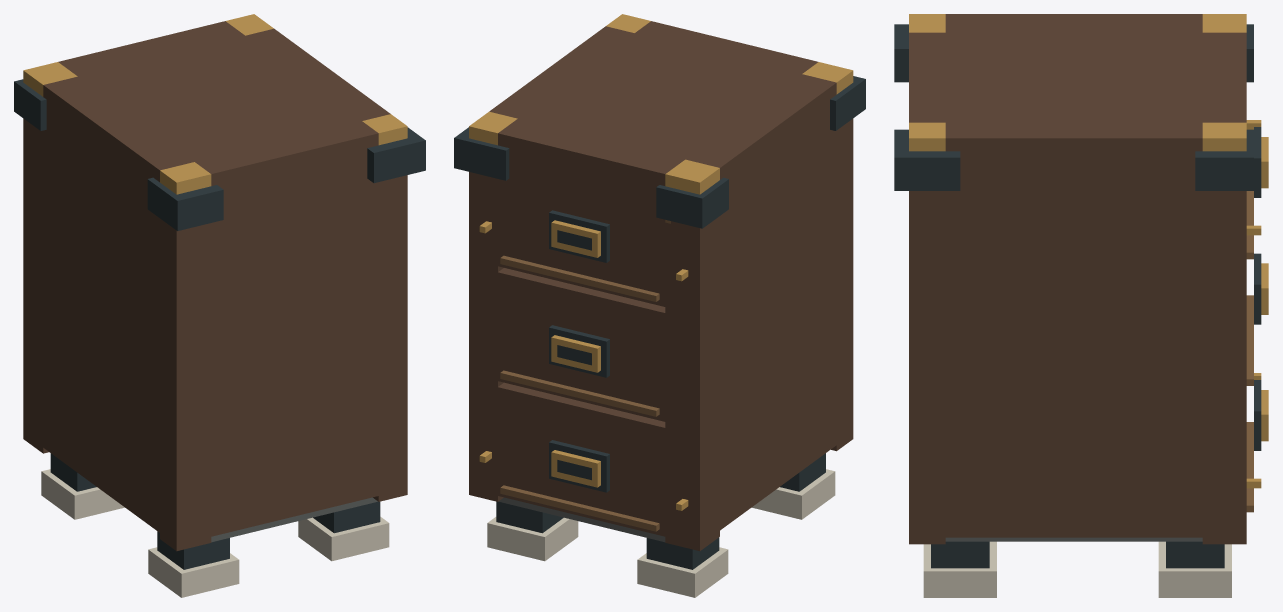
3 views of the same model, side by side, from view 1: azimuth 30°, elevation 25°; view 2: azimuth 150°, elevation 25°; view 3: azimuth 270°, elevation 25° (orthographic). The views are drawn at different scales.
Visible parts, largest first — view 1: 办公桌抽屉模块; view 2: 办公桌抽屉模块; view 3: 办公桌抽屉模块.
Part boxes in pixels (x1,y1,x2,y2): 办公桌抽屉模块: (14,14,425,597); 办公桌抽屉模块: (454,14,865,597); 办公桌抽屉模块: (894,14,1268,597).
Size of the model in its own units: 0.43 by 0.7 by 0.51.
6 materials, 6 textured.
